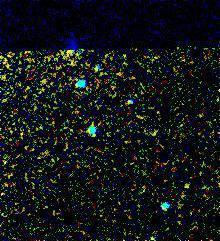star: (171, 171, 201, 201)
